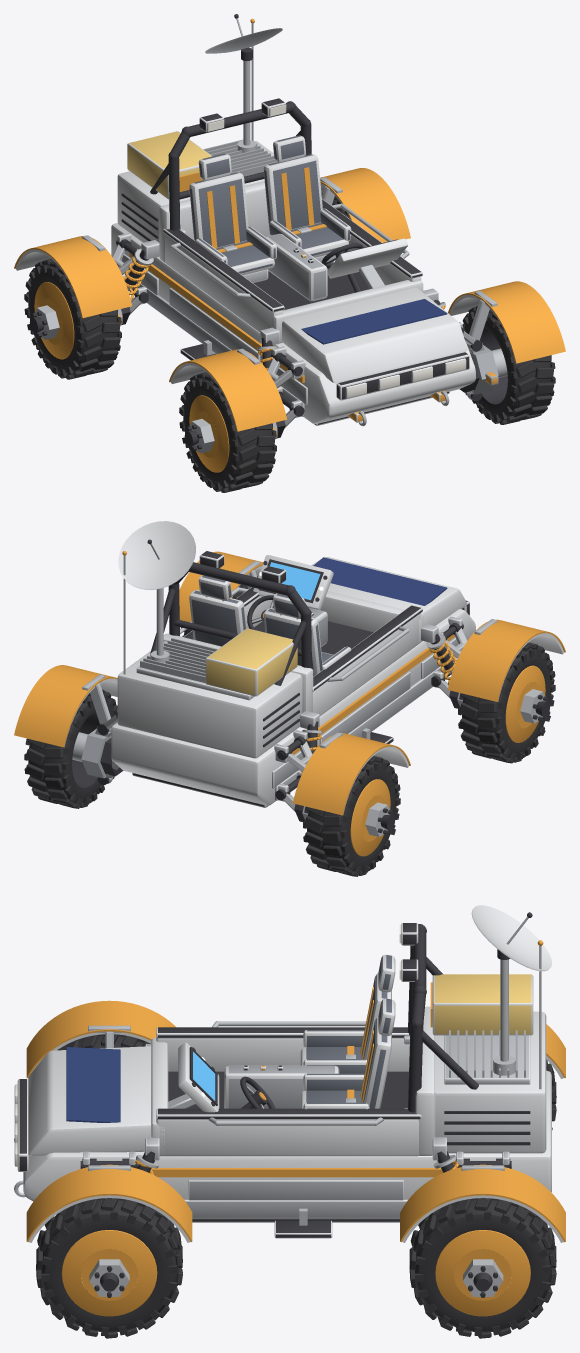
File: Rover.fbx
The picture shows the model from 3 angles, top to bottom: view 1: azimuth 30°, elevation 25°; view 2: azimuth 150°, elevation 25°; view 3: azimuth 270°, elevation 25°; orthographic projection. The views are drawn at different scales.
Visible parts, largest first — view 1: Rover_Body, Wheel_RR, Wheel_FR, Knuckle_FL, Wheel_FL, Knuckle_FR, Knuckle_RR, Knuckle_RL, Damper_RR; view 2: Rover_Body, Wheel_FR, Wheel_RR, Knuckle_RL, Wheel_RL, Knuckle_FR, Knuckle_RR, Knuckle_FL, Damper_FR, Arm_U_RR; view 3: Rover_Body, Wheel_RL, Wheel_FL, Knuckle_FL, Knuckle_RL, Knuckle_FR, Wheel_FR, Knuckle_RR, SteeringWheel.
Part boxes in pixels (box(x1,y1,x2,y2)): Rover_Body: box(111, 14, 475, 426); Wheel_RR: box(24, 258, 121, 379); Wheel_FR: box(179, 372, 276, 492); Knuckle_FL: box(448, 281, 565, 400); Wheel_FL: box(462, 306, 555, 424); Knuckle_FR: box(169, 348, 287, 438); Knuckle_RR: box(14, 235, 132, 325); Knuckle_RL: box(320, 168, 410, 242); Damper_RR: box(123, 249, 153, 299); Rover_Body: box(111, 521, 475, 807); Wheel_FR: box(458, 642, 555, 763); Wheel_RR: box(303, 756, 400, 876); Knuckle_RL: box(14, 665, 123, 784); Wheel_RL: box(24, 689, 117, 808); Knuckle_FR: box(447, 619, 565, 708); Knuckle_RR: box(293, 732, 410, 822); Knuckle_FL: box(169, 551, 263, 622); Damper_FR: box(426, 633, 456, 684); Arm_U_RR: box(277, 736, 312, 771); Rover_Body: box(14, 905, 552, 1238); Wheel_RL: box(409, 1198, 556, 1338); Wheel_FL: box(36, 1198, 182, 1338); Knuckle_FL: box(26, 1164, 192, 1242); Knuckle_RL: box(400, 1164, 565, 1242); Knuckle_FR: box(26, 1000, 175, 1078); Wheel_FR: box(57, 1034, 150, 1050); Knuckle_RR: box(546, 1024, 565, 1078); SteeringWheel: box(240, 1076, 275, 1108).
Size of the model in its own units: 3.46 by 2.76 by 3.84.
